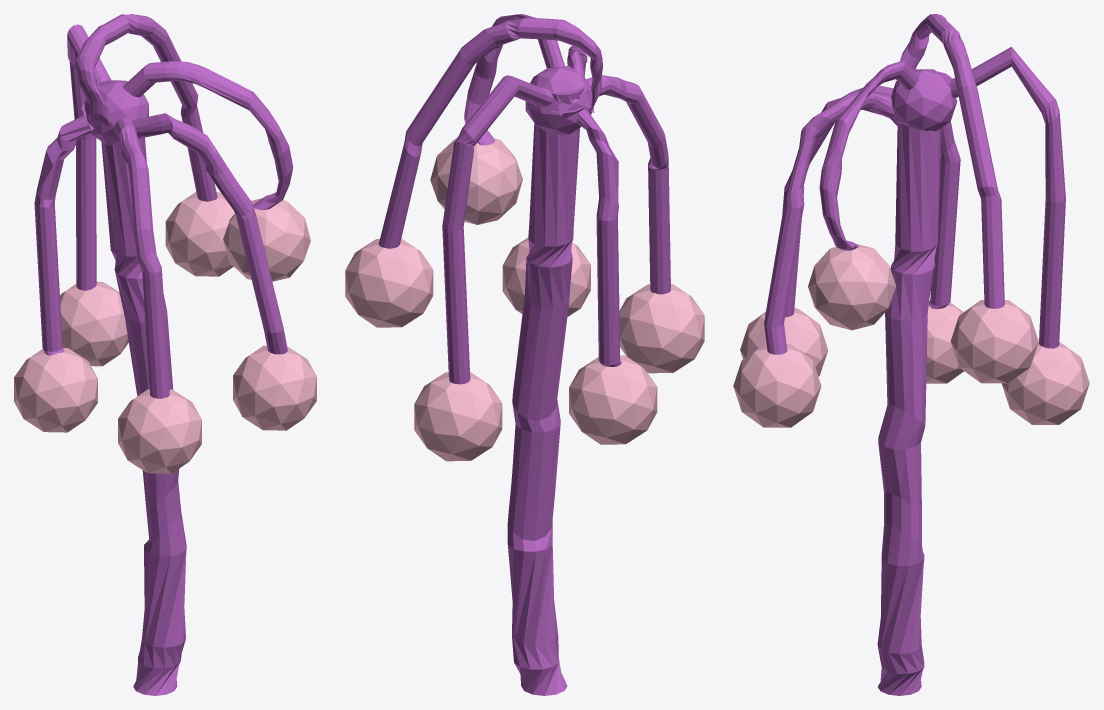
The model's file is desertTree1.fbx.
3 views of the same model, side by side, from view 1: azimuth 30°, elevation 25°; view 2: azimuth 150°, elevation 25°; view 3: azimuth 270°, elevation 25° (orthographic). The views are drawn at different scales.
Parts seen in each view (by area): view 1: default; view 2: default; view 3: default.
Boxes of the visible parts, box(x1,y1,x2,y2) form: default: box(14, 14, 316, 695); default: box(345, 14, 704, 695); default: box(733, 14, 1089, 695).
Bounding box in the file's own units: 0.88 × 2.13 × 1.05.
